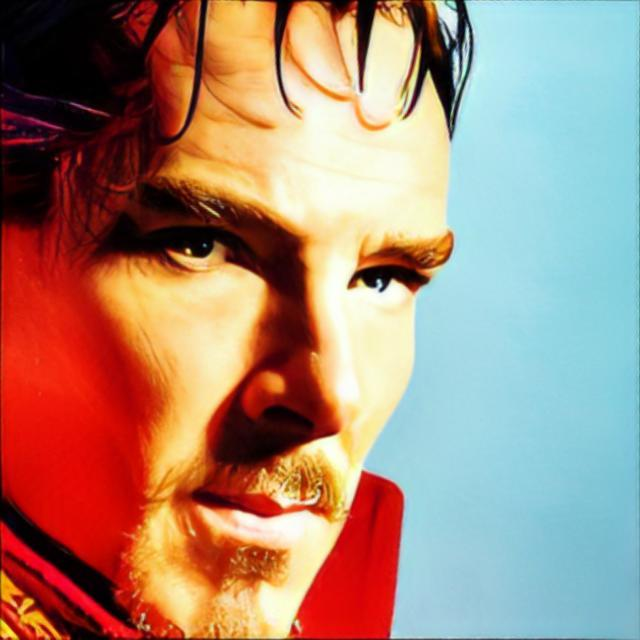anger: (4, 33, 456, 640)
